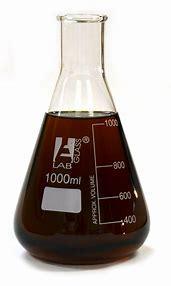Titrarion: (6, 15, 150, 265)
